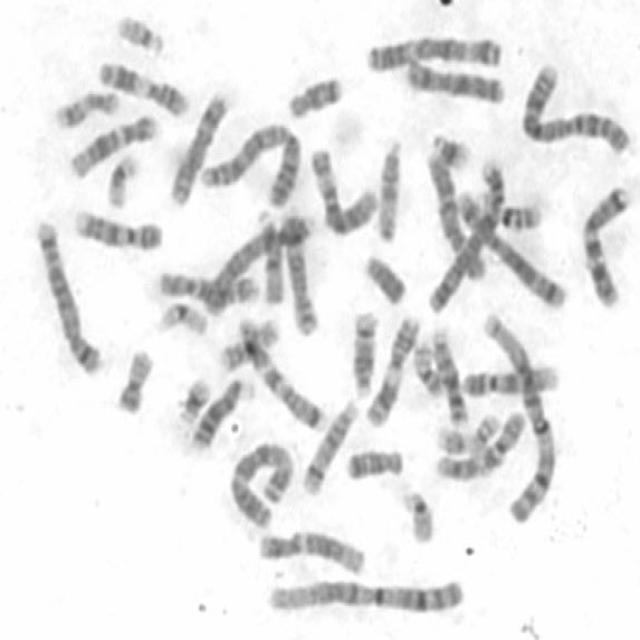A1: (477, 303, 560, 526), (262, 569, 468, 617)
A2: (517, 54, 635, 156), (195, 115, 304, 208)
A3: (361, 27, 506, 75), (225, 434, 297, 529)
B4: (424, 148, 509, 316), (198, 206, 317, 319)
B5: (450, 182, 569, 312), (30, 212, 105, 377)
C10: (429, 403, 529, 482), (153, 263, 262, 307)
C11: (360, 307, 422, 428), (93, 53, 193, 118)
C12: (65, 106, 161, 180), (252, 524, 368, 578)
C6: (421, 145, 492, 286), (305, 141, 381, 237)
C7: (234, 310, 330, 434), (576, 176, 634, 310)
C8: (164, 83, 233, 209), (276, 206, 322, 337)
C9: (70, 201, 166, 253), (456, 356, 565, 398)
D13: (186, 370, 257, 452), (428, 320, 472, 428)
D14: (297, 392, 362, 497), (346, 303, 381, 398)
D15: (371, 130, 405, 244), (251, 203, 286, 306)
E16: (214, 310, 284, 373), (468, 185, 544, 232)
E17: (430, 404, 505, 456), (49, 81, 122, 131)
E18: (283, 67, 346, 121), (342, 439, 406, 484)
F19: (152, 293, 211, 338), (102, 145, 143, 209)
F20: (110, 340, 156, 417), (408, 334, 446, 398)
G21: (172, 369, 213, 426), (426, 124, 474, 172)
G22: (112, 5, 168, 56), (396, 481, 436, 546)
X: (400, 51, 509, 105)
Y: (358, 246, 410, 307)
